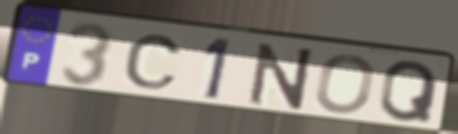1: (200, 36, 234, 103)
3: (59, 19, 119, 91)
C: (121, 32, 185, 91)
N: (246, 41, 318, 112)
O: (312, 53, 378, 116)
Q: (377, 59, 441, 126)
